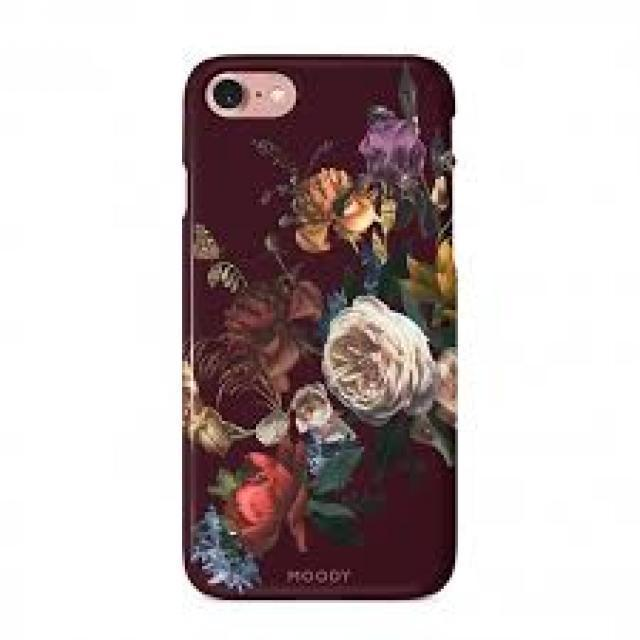phone: (176, 49, 462, 601)
